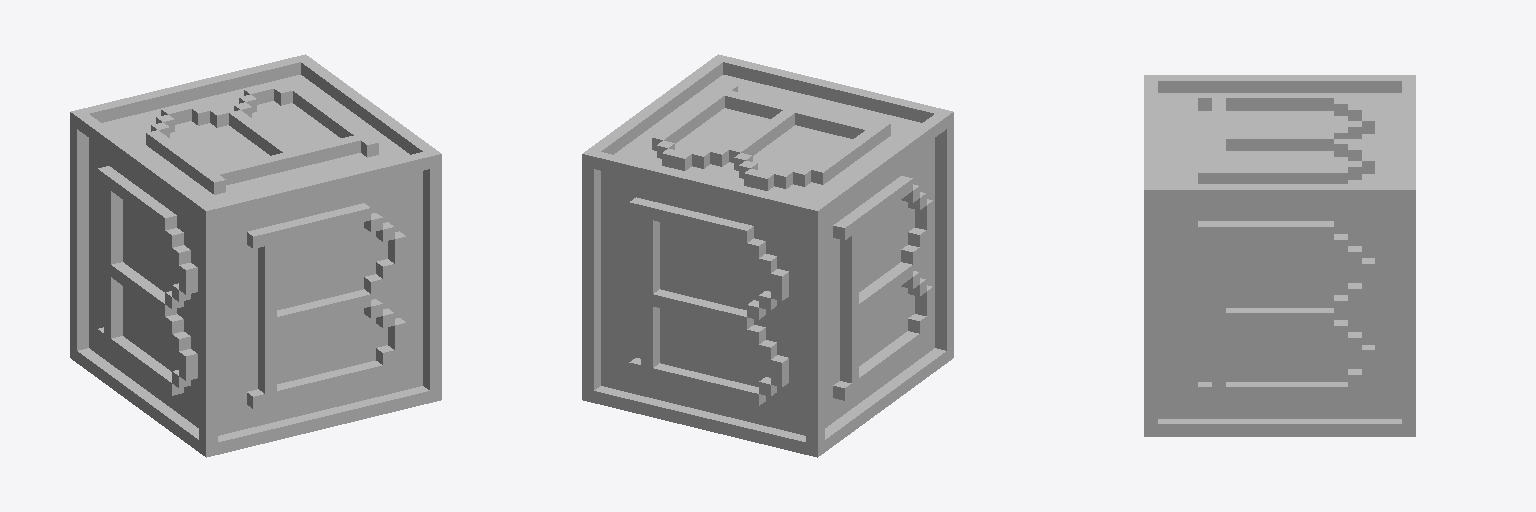
File: Aplhabet B.obj
3 views of the same model, side by side, from view 1: azimuth 30°, elevation 25°; view 2: azimuth 150°, elevation 25°; view 3: azimuth 270°, elevation 25° (orthographic).
Visible parts, largest first — view 1: object 1; view 2: object 1; view 3: object 1.
Boxes of the visible parts, x1=… form: object 1: x1=70, y1=54, x2=441, y2=457; object 1: x1=582, y1=54, x2=953, y2=457; object 1: x1=1144, y1=75, x2=1415, y2=436.
Size of the model in its own units: 2 by 2 by 2.